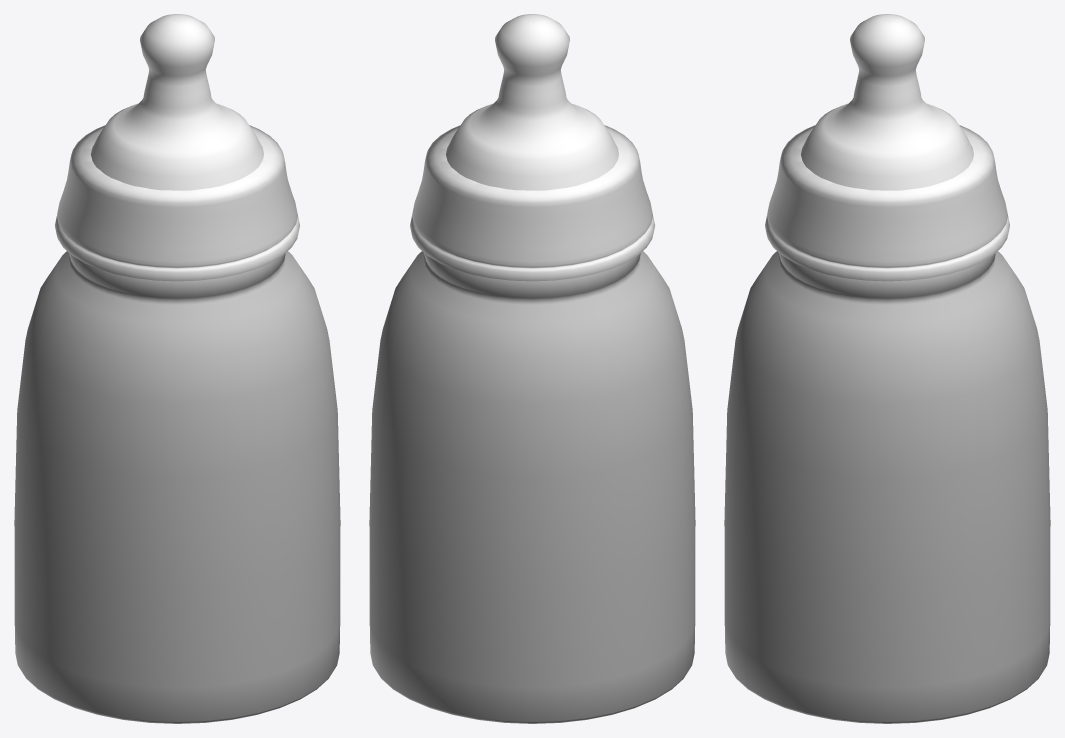
The model's file is milkbottle.FBX.glb.
3 views of the same model, side by side, from view 1: azimuth 30°, elevation 25°; view 2: azimuth 150°, elevation 25°; view 3: azimuth 270°, elevation 25° (orthographic).
Visible parts, largest first — view 1: node_id6, node_id5, node_id4; view 2: node_id6, node_id5, node_id4; view 3: node_id6, node_id5, node_id4.
Boxes of the visible parts, x1=… form: node_id6: x1=14, y1=251, x2=340, y2=723; node_id5: x1=54, y1=125, x2=299, y2=281; node_id4: x1=91, y1=14, x2=263, y2=190; node_id6: x1=369, y1=251, x2=695, y2=723; node_id5: x1=410, y1=125, x2=655, y2=281; node_id4: x1=446, y1=14, x2=618, y2=190; node_id6: x1=724, y1=251, x2=1050, y2=723; node_id5: x1=765, y1=125, x2=1009, y2=281; node_id4: x1=801, y1=14, x2=973, y2=190.
Size of the model in its own units: 0.2365 by 0.512 by 0.2365.
3 materials, 3 textured.
